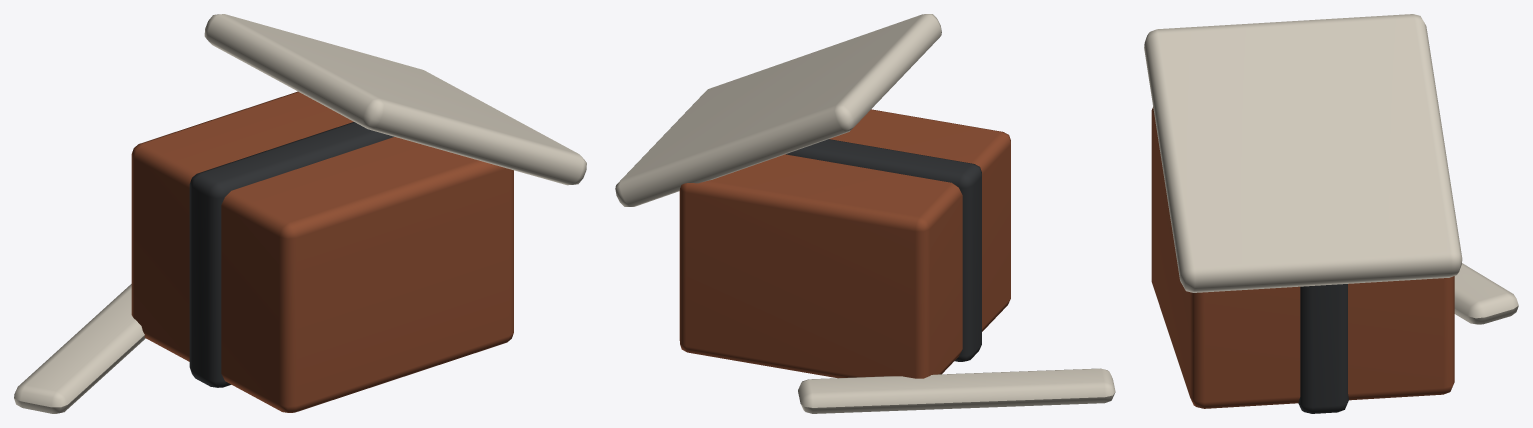
File: debris-crate.glb
3 views of the same model, side by side, from view 1: azimuth 30°, elevation 25°; view 2: azimuth 150°, elevation 25°; view 3: azimuth 270°, elevation 25° (orthographic). The views are drawn at different scales.
Parts seen in each view (by area): view 1: debris-crate; view 2: debris-crate; view 3: debris-crate.
Part boxes in pixels (x1=…): debris-crate: x1=14, y1=14, x2=586, y2=413; debris-crate: x1=615, y1=14, x2=1115, y2=413; debris-crate: x1=1144, y1=14, x2=1518, y2=413.
Bounding box in the file's own units: 1.4 × 0.7971 × 0.8695.
